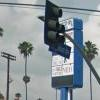Traffic light: (32, 2, 73, 54)
